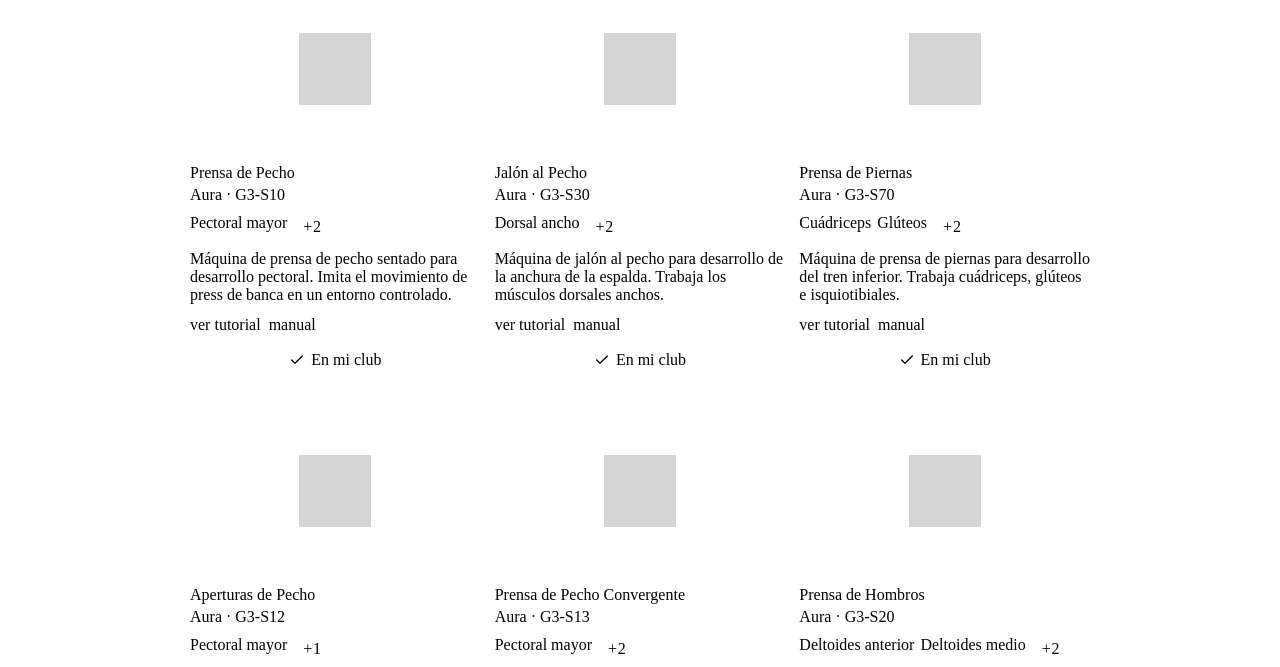
Test: AC9 — tri-state and persistence failure › applies the toggle in memory and shows ONE R7.3 note when the write fails (pill ON)
The width and height of the screenshot is (1280, 667).
(page scrolled)
Click the button "En mi club" below "G3-S10": x=335, y=360 [190, 338, 481, 382]
(page scrolled)
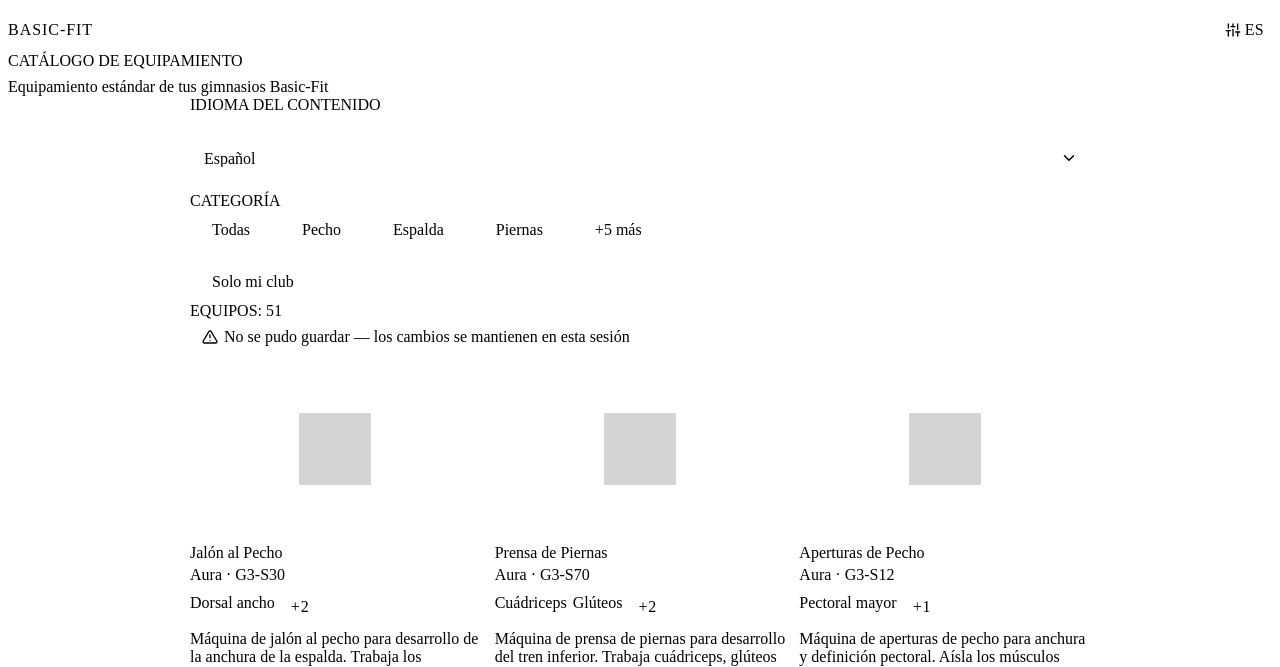
Expected: the heading "Prensa de Pecho" is not shown
Result: the number of messages is 1 at [202, 328, 630, 345]
Result: the message reads "No se pudo guardar — los cambios se mantienen en esta sesión" at [224, 328, 630, 345]
